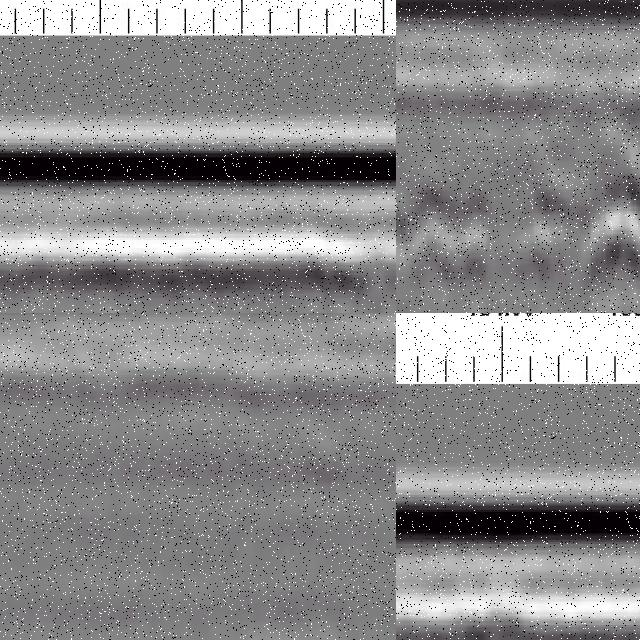loose: (397, 157, 640, 289)
